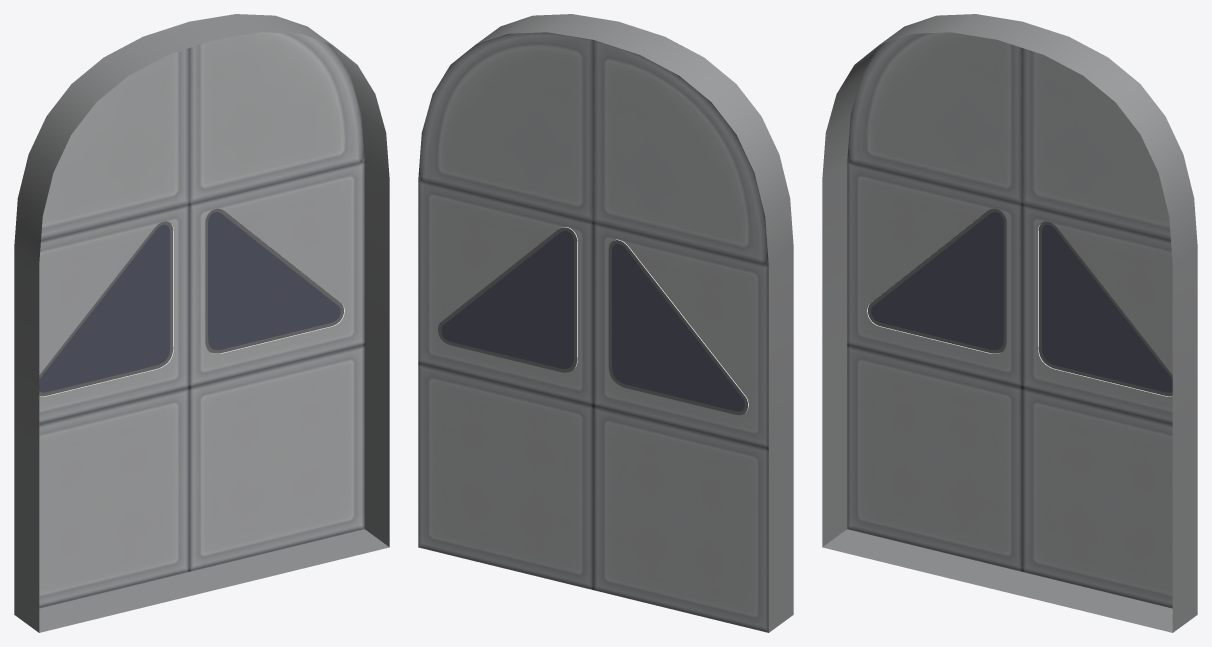
Rendered from mesh_1002_zc_ground03.fbx.
The picture shows the model from 3 angles, left to right: view 1: azimuth 30°, elevation 25°; view 2: azimuth 150°, elevation 25°; view 3: azimuth 330°, elevation 25°; orthographic projection.
Visible parts, largest first — view 1: mesh_1002_zc_ground03a, mesh_1002_zc_ground03b; view 2: mesh_1002_zc_ground03a, mesh_1002_zc_ground03b; view 3: mesh_1002_zc_ground03a, mesh_1002_zc_ground03b.
Boxes of the visible parts, x1,y1,x2,y2 form: mesh_1002_zc_ground03a: (14, 14, 389, 632); mesh_1002_zc_ground03b: (39, 208, 343, 396); mesh_1002_zc_ground03a: (418, 14, 793, 632); mesh_1002_zc_ground03b: (438, 227, 747, 415); mesh_1002_zc_ground03a: (822, 14, 1197, 632); mesh_1002_zc_ground03b: (868, 208, 1172, 396).
Bounding box in the file's own units: 1232 × 1848 × 155.
Materials: 2 (1 with a texture image).
